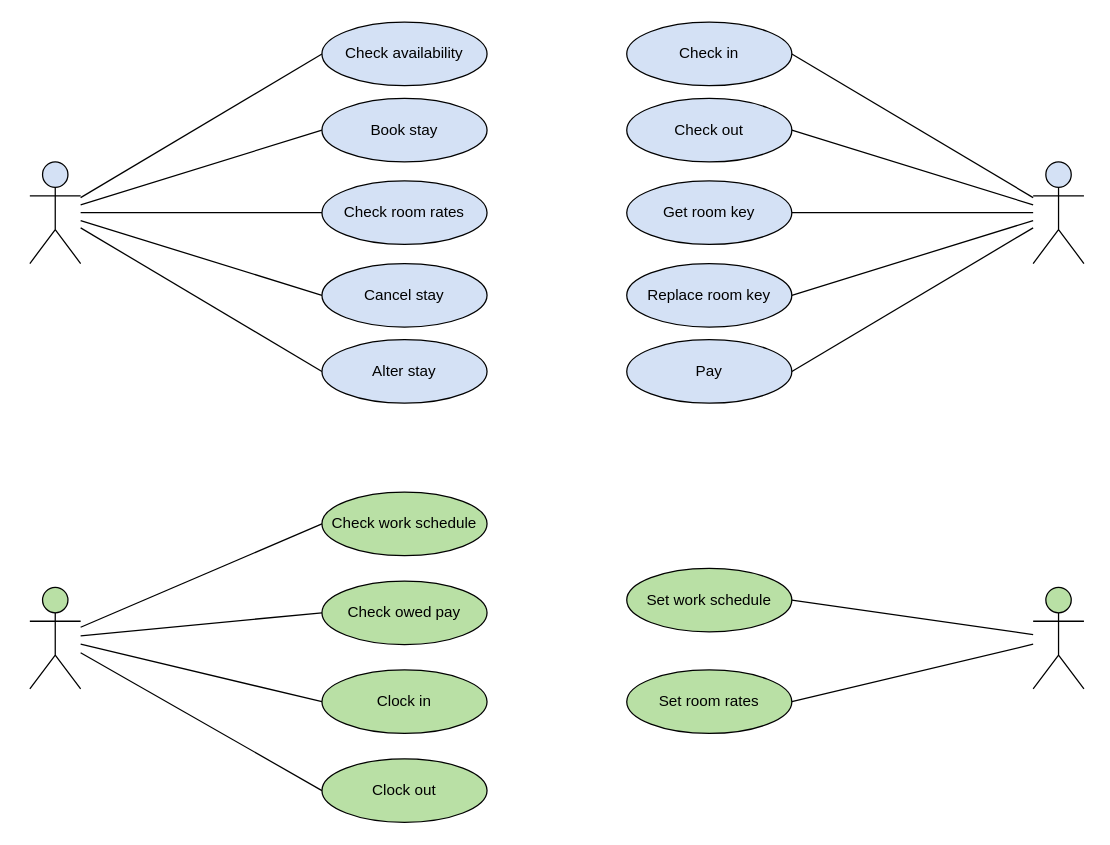
Image size: 1110x845. Some labels were removed from this diagram. Each missing label, with the centre of its shape:
Employee: pixel 55 637
Guest: pixel 1058 212
Manager: pixel 1058 637
User: pixel 55 212
